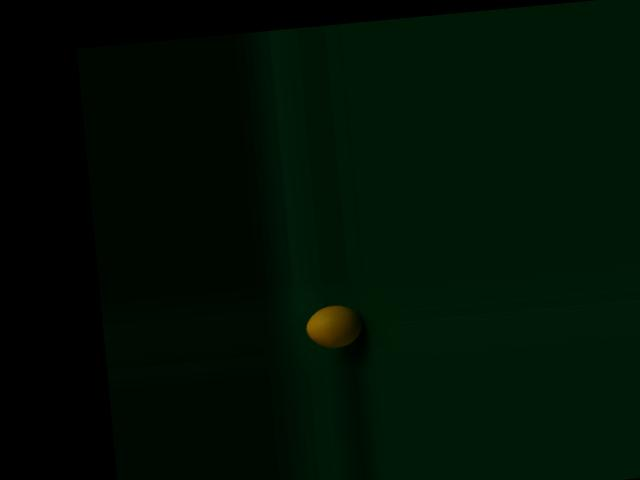egg: (303, 302, 363, 349)
